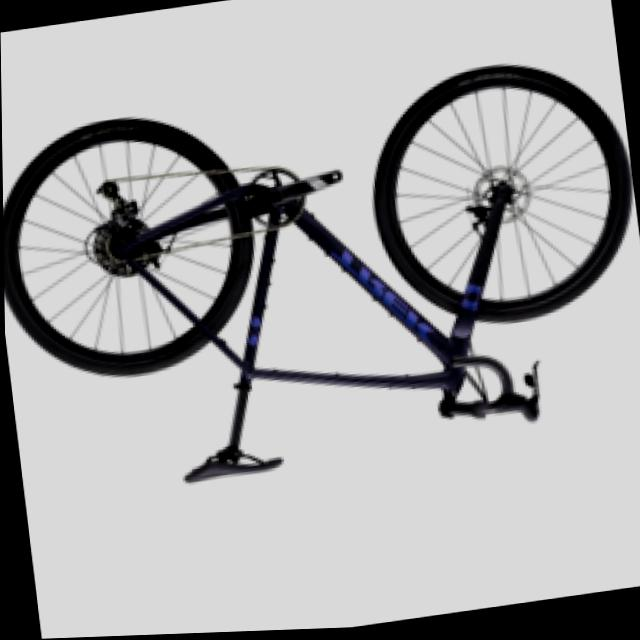road-bike: (1, 47, 640, 506)
